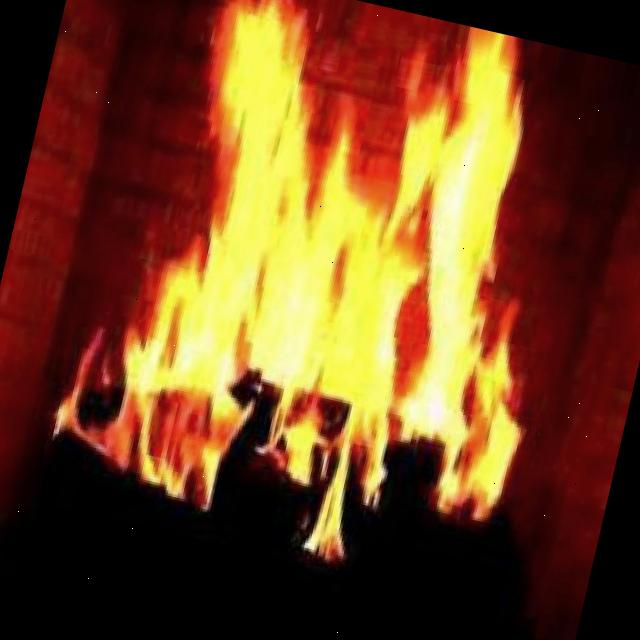fire: (134, 12, 586, 502)
